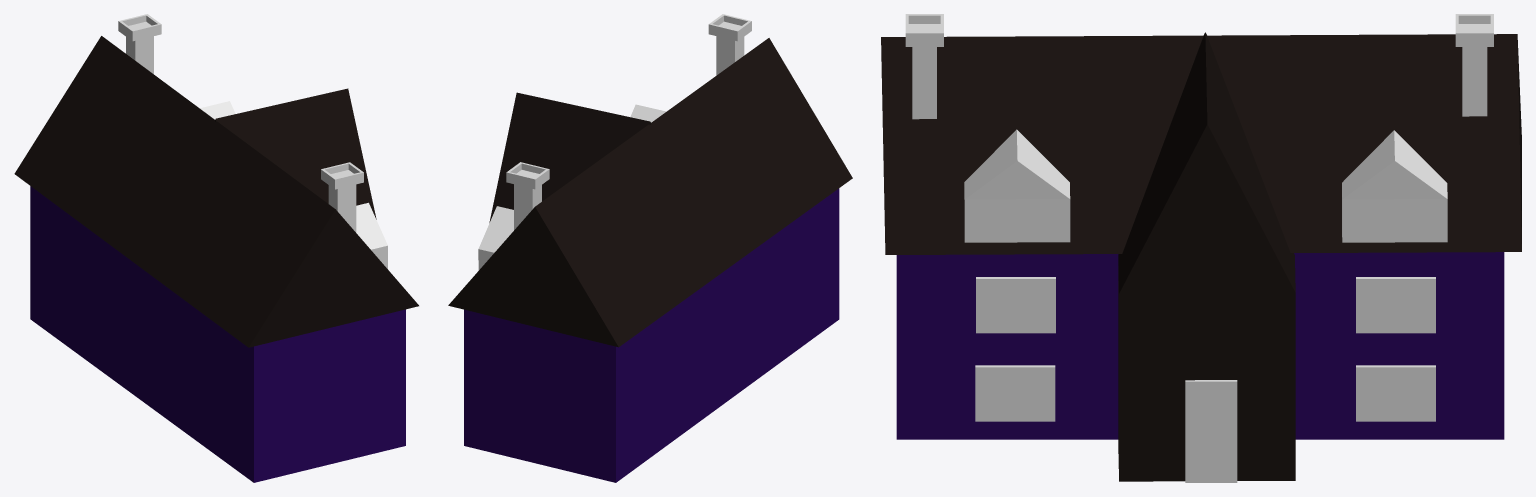
Rendered from BigHouse.fbx.
The picture shows the model from 3 angles, left to right: view 1: azimuth 30°, elevation 25°; view 2: azimuth 150°, elevation 25°; view 3: azimuth 270°, elevation 25°; orthographic projection. The views are drawn at different scales.
Visible parts, largest first — view 1: Cube.011; view 2: Cube.011; view 3: Cube.011.
Boxes of the visible parts, x1,y1,x2,y2 form: Cube.011: (14, 14, 418, 482); Cube.011: (448, 14, 852, 482); Cube.011: (881, 14, 1521, 482).
Size of the model in its own units: 209 by 259 by 390.
